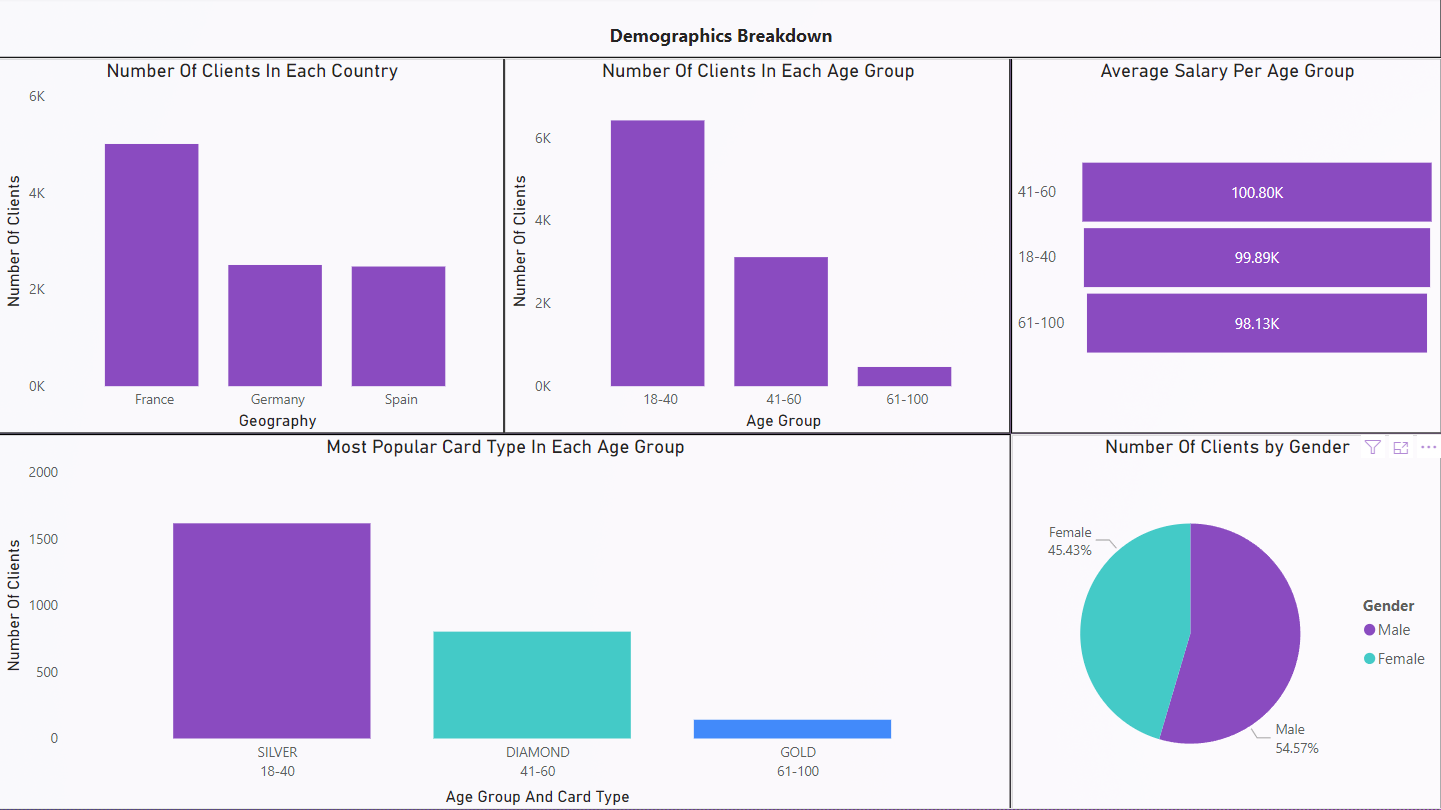

What the dashboard file says about the page in this screenshot:
{"tool":"powerbi","page":{"name":"Demographics","canvas":[1280,720],"ordinal":0},"visuals":[{"type":"columnChart","title":"Number Of Clients In Each Country","fields":{"Category":["store_sales no_of_clients_in_each_country.Geography"],"Y":["Sum(store_sales no_of_clients_in_each_country.Number Of Clients In Each Country)"]},"box":[0,54,449,333],"z":0,"group":"g1"},{"type":"columnChart","title":"Number Of Clients In Each Age Group","fields":{"Category":["store_sales age_and_product.age_group"],"Y":["Sum(store_sales age_and_product.count)"]},"box":[449,54,449,333],"z":0},{"type":"textbox","box":[0,0,1280,54],"z":1000},{"type":"group","id":"g1","title":"Group 1","box":[0,54,1280,666],"z":2000},{"type":"columnChart","title":"Most Popular Card Type In Each Age Group","fields":{"Category":["store_sales age_and_product.age_group","store_sales age_and_product.card_type"],"Series":["store_sales age_and_product.card_type"],"Y":["Sum(store_sales age_and_product.count)"]},"box":[0,387,898,333],"z":2000,"group":"g1"},{"type":"funnel","title":"Average Salary Per Age Group","fields":{"Category":["store_sales avg_estimated_salary_per_age_group.age_group"],"Y":["Sum(store_sales avg_estimated_salary_per_age_group.estimated salary)"]},"box":[898,54,382,333],"z":3000,"group":"g1"},{"type":"pieChart","fields":{"Category":["store_sales gender_breakdown_of_customer_base.Gender"],"Y":["Sum(store_sales gender_breakdown_of_customer_base.COUNT(*))"]},"box":[898,387,382,333],"z":4000,"group":"g1"}]}

Visuals, with their boxes in screenshot pixels (x1, y1, x2, y2), scaled from the page's 1280x720 canvas onto the 1441x810 screenshot:
"Number Of Clients In Each Country" columnChart: <box>0,61,505,435</box>
"Number Of Clients In Each Age Group" columnChart: <box>505,61,1011,435</box>
textbox: <box>0,0,1440,61</box>
"Group 1" group: <box>0,61,1440,809</box>
"Most Popular Card Type In Each Age Group" columnChart: <box>0,435,1011,809</box>
"Average Salary Per Age Group" funnel: <box>1011,61,1440,435</box>
pieChart - store_sales gender_breakdown_of_customer_base.Gender x Sum(store_sales gender_breakdown_of_customer_base.COUNT(*)): <box>1011,435,1440,809</box>
